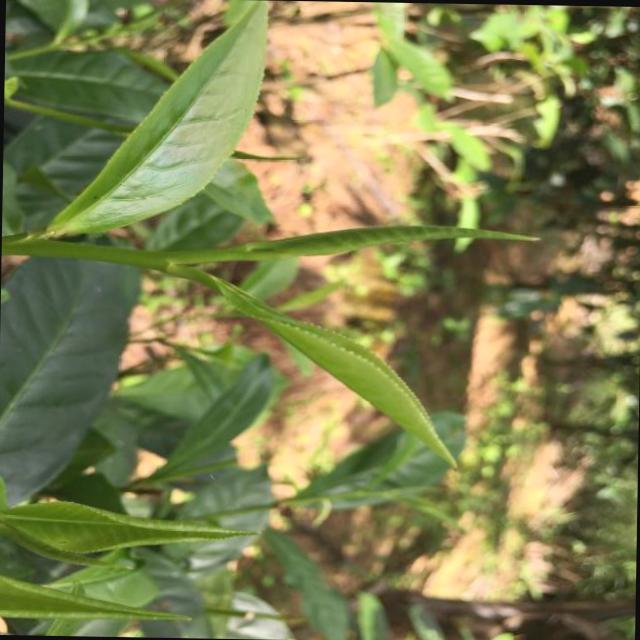Stem: (146, 249, 169, 268)
